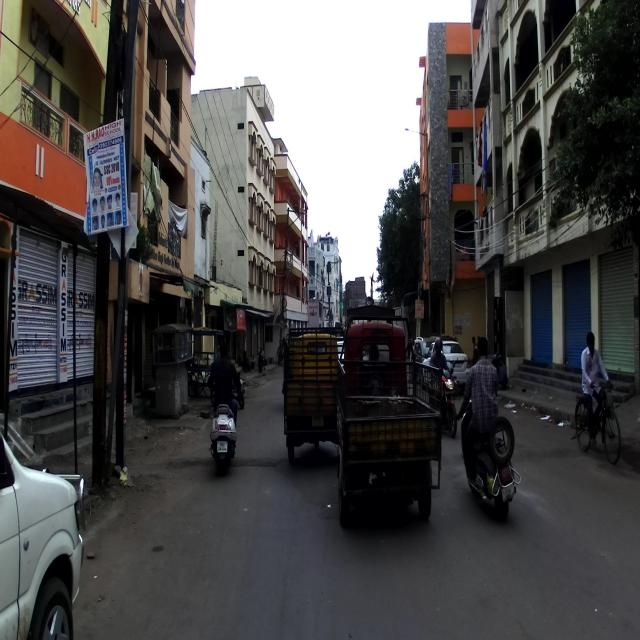autorickshaw: (334, 302, 442, 529), (281, 324, 343, 468)
scooter: (455, 399, 521, 524), (207, 384, 241, 477)
